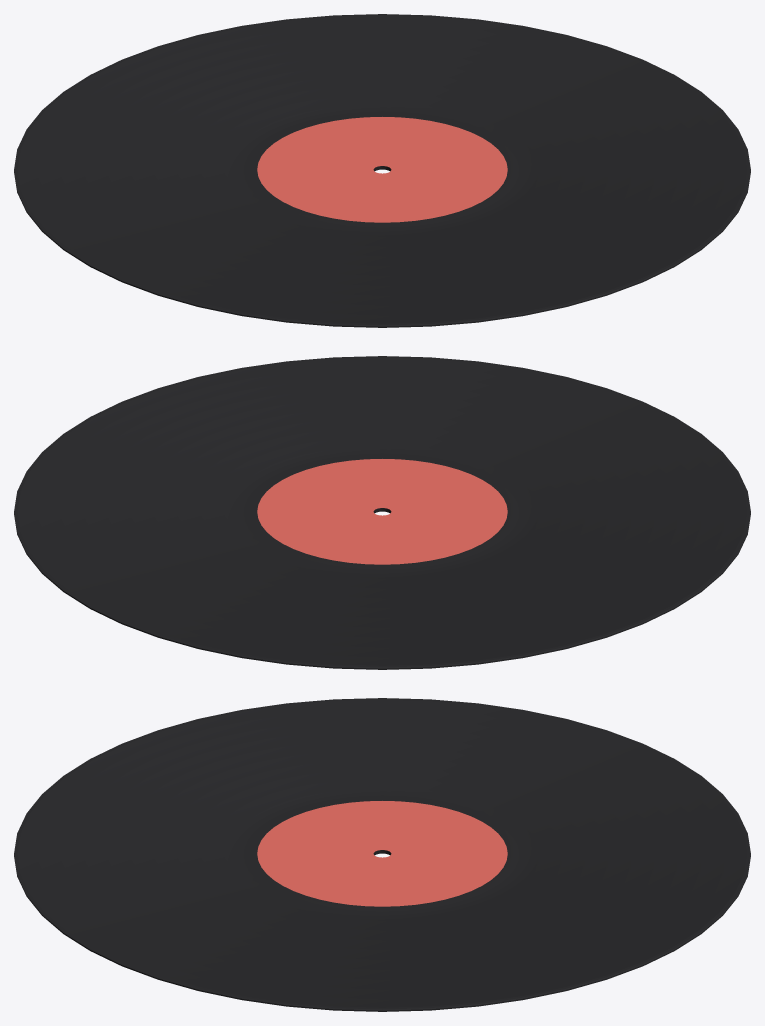
File: paper_vinyl_record.fbx
The picture shows the model from 3 angles, top to bottom: view 1: azimuth 30°, elevation 25°; view 2: azimuth 150°, elevation 25°; view 3: azimuth 270°, elevation 25°; orthographic projection.
Visible parts, largest first — view 1: paper_vinyl_record; view 2: paper_vinyl_record; view 3: paper_vinyl_record.
Boxes of the visible parts, box(x1,y1,x2,y2) form: paper_vinyl_record: box(14, 14, 750, 327); paper_vinyl_record: box(14, 356, 750, 669); paper_vinyl_record: box(14, 698, 750, 1011).
Size of the model in its own units: 0.3 by 0.0016 by 0.3.
